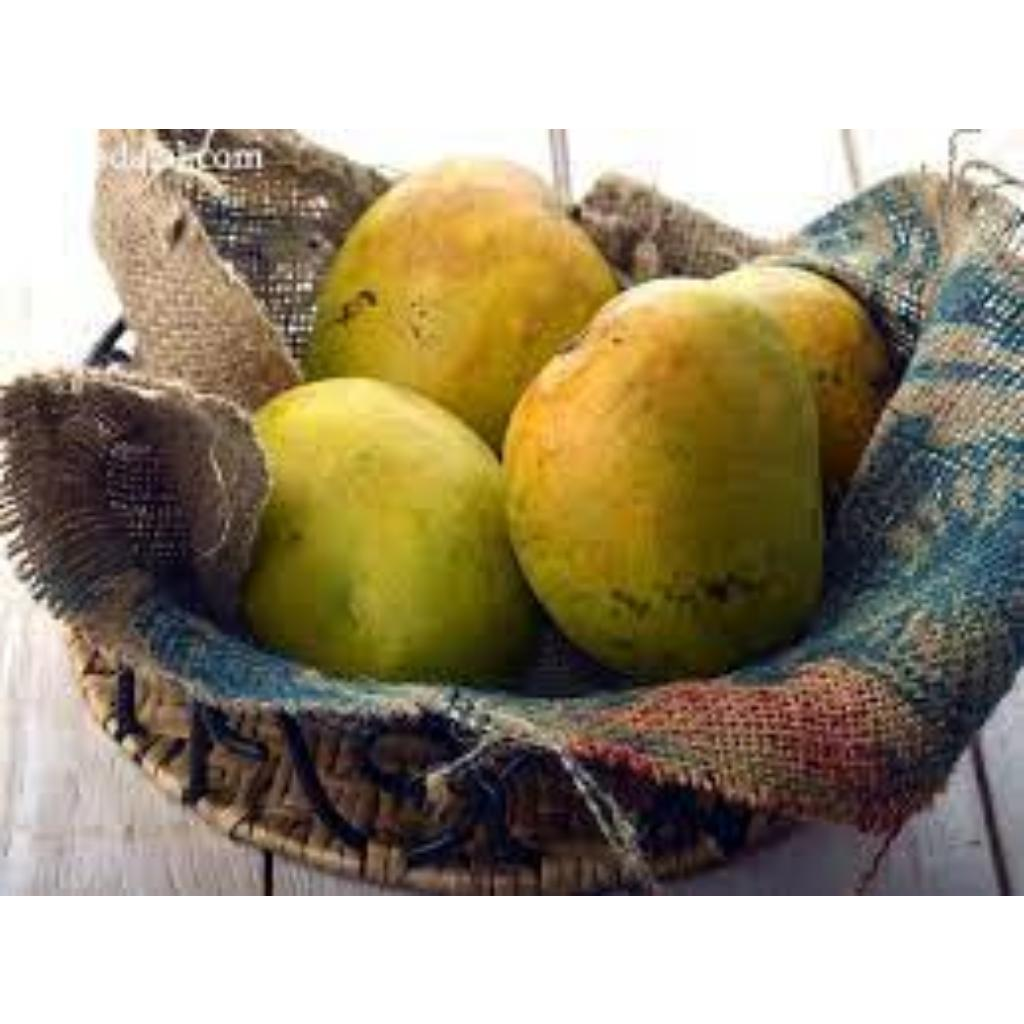mango: (510, 270, 846, 674), (320, 158, 633, 443), (232, 384, 529, 672)
